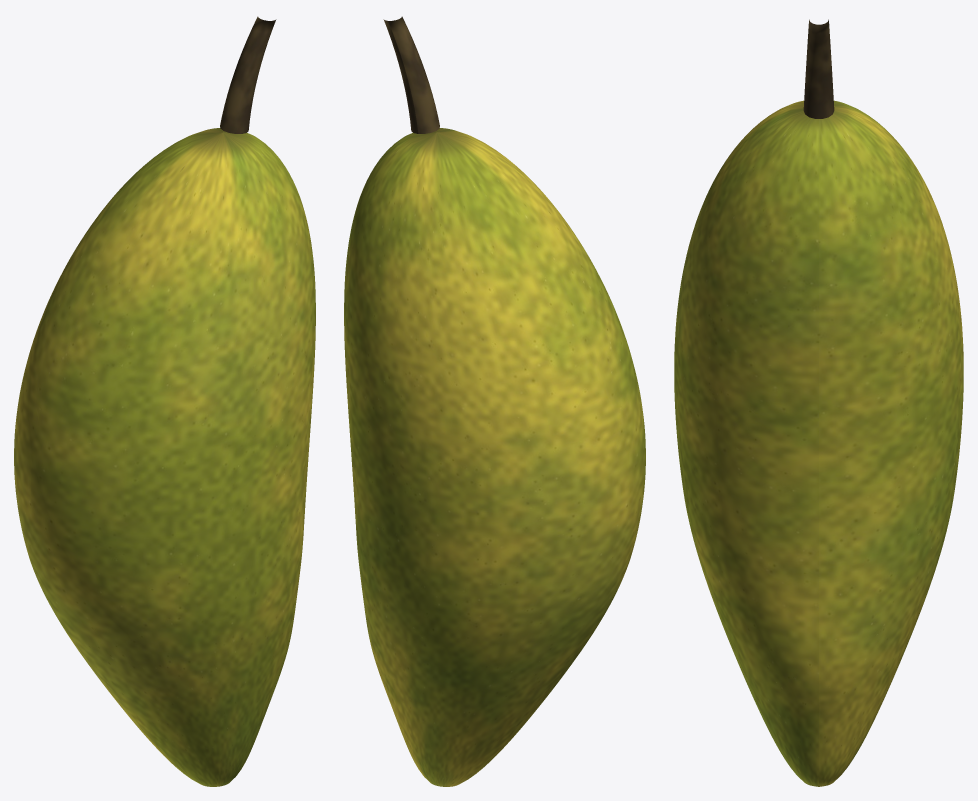
Rendered from mangue-carotte.glb.
The picture shows the model from 3 angles, left to right: view 1: azimuth 30°, elevation 25°; view 2: azimuth 150°, elevation 25°; view 3: azimuth 270°, elevation 25°; orthographic projection. The views are drawn at different scales.
Visible parts, largest first — view 1: entier_peau, moitie_A_peau, moitie_B_peau, entier_extra0; view 2: entier_peau, moitie_B_peau, moitie_A_peau, entier_extra0; view 3: entier_peau, moitie_A_peau, moitie_B_peau, entier_extra0.
Part boxes in pixels (left/top/right/bottom): entier_peau: left=14, top=128, right=315, bottom=786; moitie_A_peau: left=31, top=132, right=315, bottom=786; moitie_B_peau: left=14, top=128, right=254, bottom=762; entier_extra0: left=220, top=16, right=276, bottom=133; entier_peau: left=344, top=128, right=645, bottom=786; moitie_B_peau: left=344, top=132, right=628, bottom=786; moitie_A_peau: left=406, top=128, right=645, bottom=757; entier_extra0: left=383, top=16, right=439, bottom=133; entier_peau: left=674, top=101, right=963, bottom=786; moitie_A_peau: left=674, top=100, right=818, bottom=786; moitie_B_peau: left=819, top=100, right=963, bottom=786; entier_extra0: left=803, top=19, right=834, bottom=118.
Size of the model in its own units: 0.0594 by 0.1597 by 0.0527.
3 materials, 3 textured.
